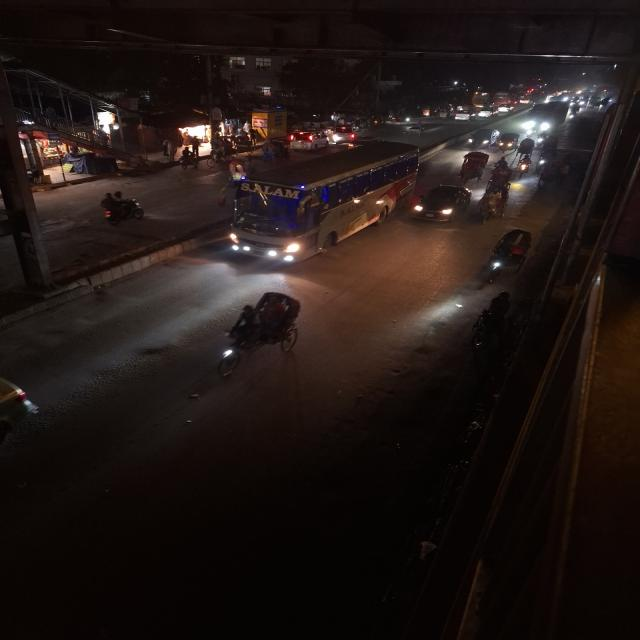bus: (233, 147, 422, 263), (524, 102, 571, 136)
car: (412, 182, 474, 224), (287, 129, 330, 152), (463, 126, 500, 150), (332, 127, 356, 146), (453, 111, 473, 122), (477, 110, 493, 118), (498, 104, 513, 112)
cng: (495, 131, 520, 151)
motorcycle: (94, 191, 148, 227)
rickshaw: (212, 288, 304, 382), (478, 225, 536, 285), (457, 150, 491, 182), (478, 188, 510, 221), (258, 144, 286, 164), (493, 156, 514, 178), (514, 154, 534, 176), (515, 137, 537, 157), (407, 119, 425, 138)
